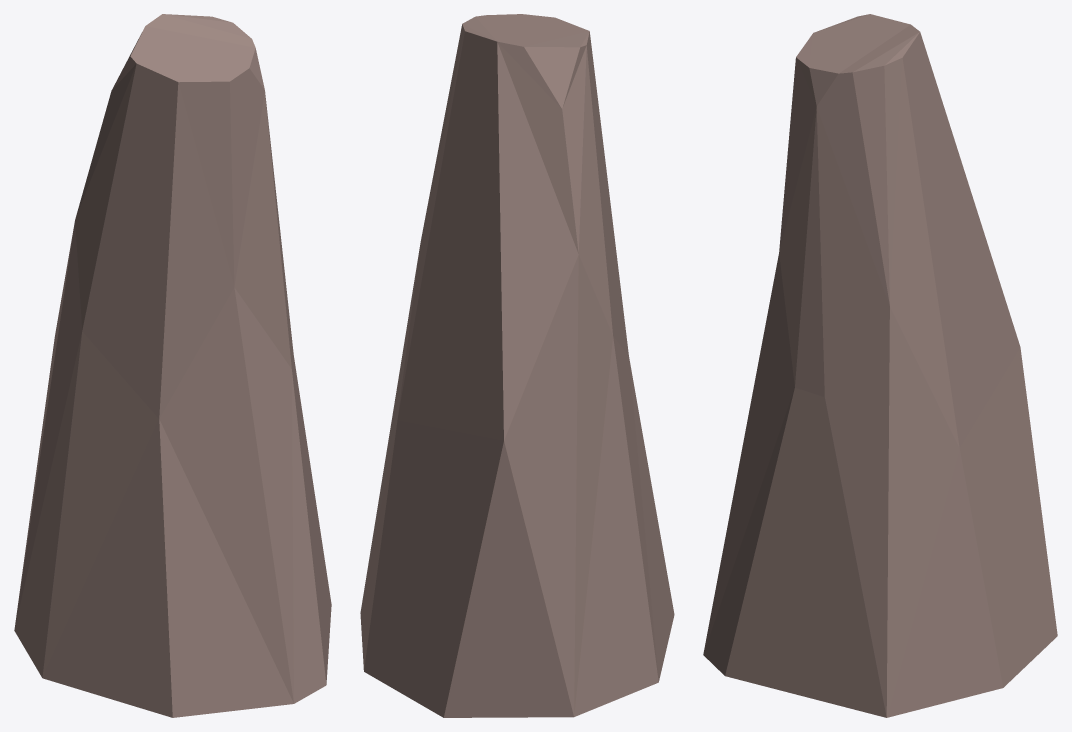
Rendered from Rock_15.fbx.
3 views of the same model, side by side, from view 1: azimuth 30°, elevation 25°; view 2: azimuth 150°, elevation 25°; view 3: azimuth 270°, elevation 25° (orthographic).
Parts seen in each view (by area): view 1: Rock_15; view 2: Rock_15; view 3: Rock_15.
Boxes of the visible parts, x1,y1,x2,y2 form: Rock_15: (14, 14, 331, 717); Rock_15: (360, 14, 674, 717); Rock_15: (703, 14, 1057, 717).
Bounding box in the file's own units: 4.46 × 8.98 × 4.71.
